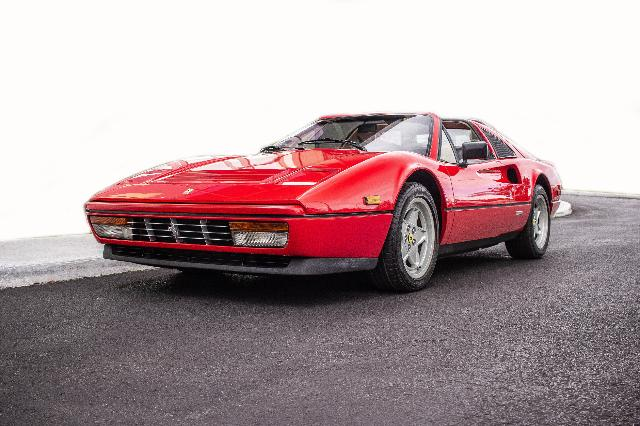ferrari: (83, 112, 562, 292)
